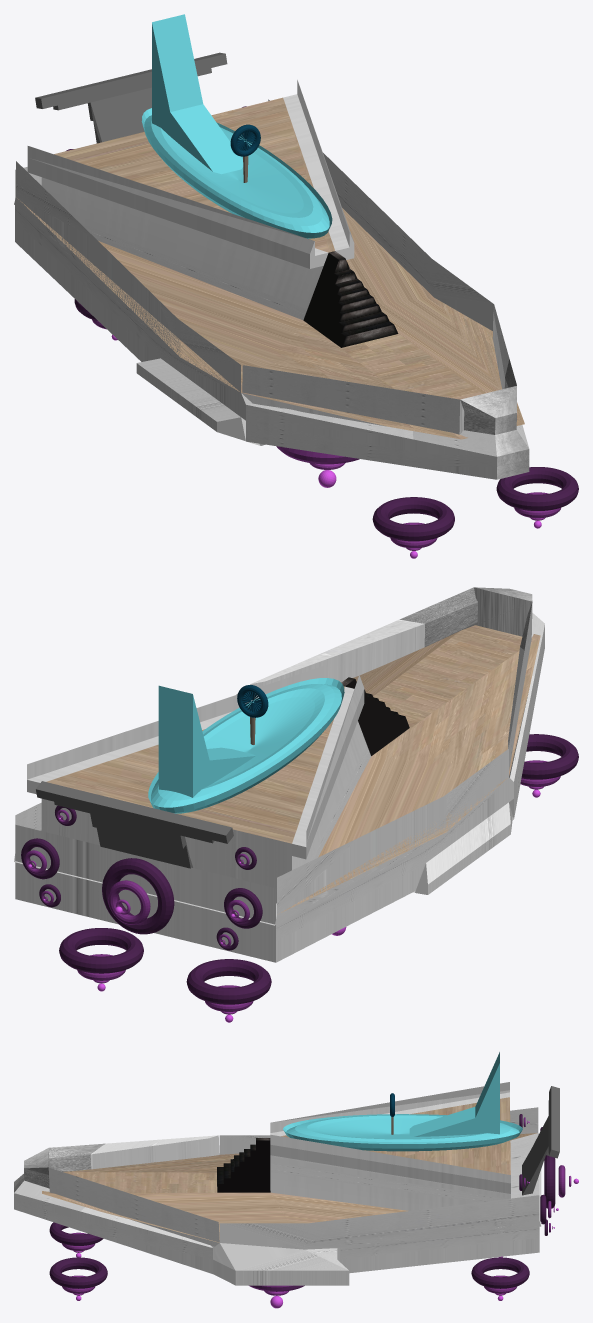
Rendered from carrobarcofinal.fbx.
3 renders of one model, top to bottom at view 1: azimuth 30°, elevation 25°; view 2: azimuth 150°, elevation 25°; view 3: azimuth 270°, elevation 25°, orthographic. The views are drawn at different scales.
Parts seen in each view (by area): view 1: Cube, Cube.002, Sphere.008, Sphere; view 2: Cube, Sphere.008, Cube.002, Sphere; view 3: Cube, Cube.002, Sphere.008.
Part boxes in pixels (<box>): Cube: <box>14,52,529,479</box>; Cube.002: <box>141,14,332,238</box>; Sphere.008: <box>66,106,578,558</box>; Sphere: <box>230,124,260,182</box>; Cube: <box>14,587,544,962</box>; Sphere.008: <box>21,734,578,1022</box>; Cube.002: <box>148,678,344,813</box>; Sphere: <box>237,685,268,744</box>; Cube: <box>14,1082,559,1285</box>; Cube.002: <box>283,1052,522,1151</box>; Sphere.008: <box>49,1114,578,1308</box>.
Bounding box in the file's own units: 358 × 433 × 886.
Materials: 12 (4 with a texture image).
